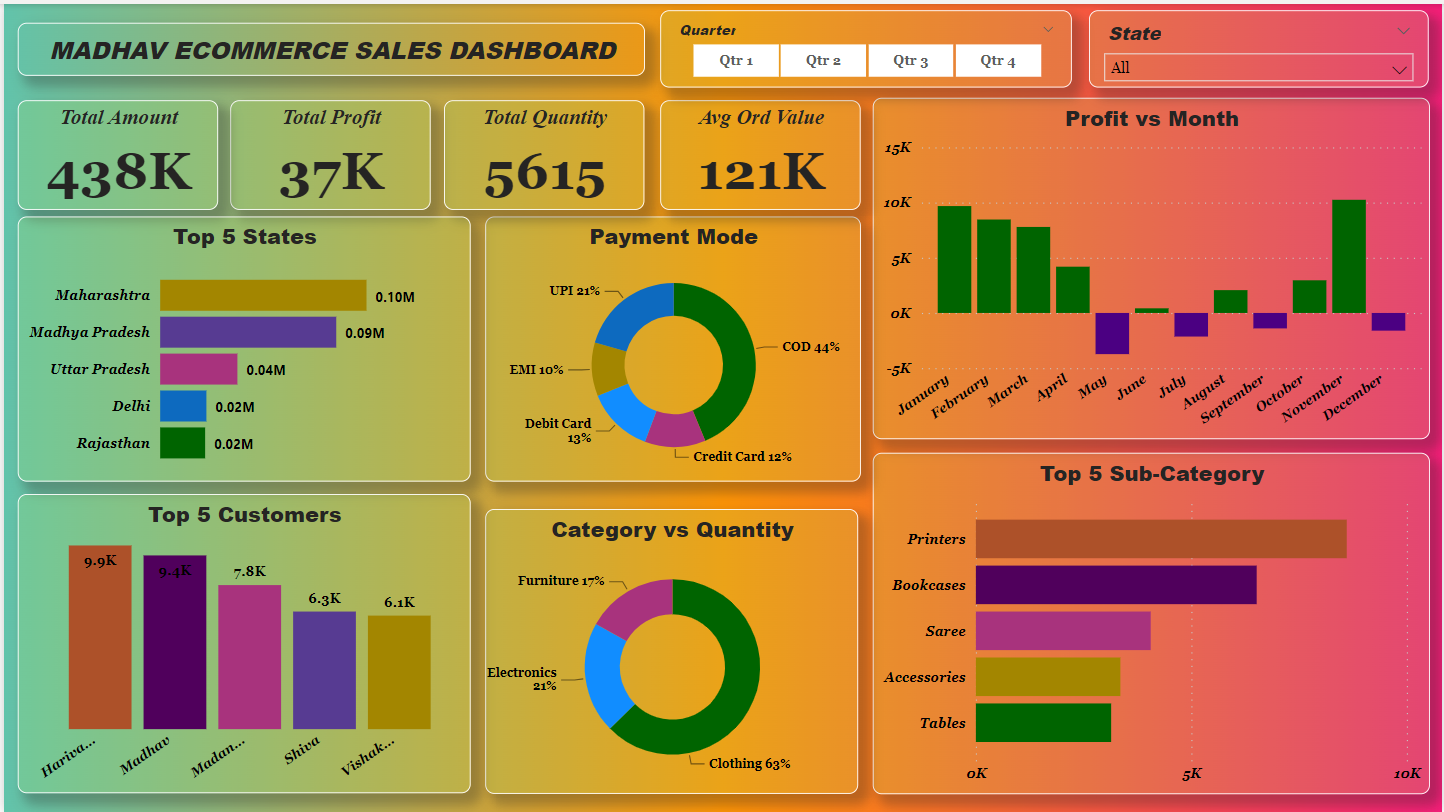

The dashboard page shown, as its layout file describes it:
{"tool":"powerbi","page":{"name":"Page 1","canvas":[1280,720],"ordinal":0},"visuals":[{"type":"textbox","box":[12.1,16.9,558.4,47],"z":0},{"type":"columnChart","title":"Profit vs Month","fields":{"Category":["Orders (1).Order Date.Variation.Date Hierarchy.Month"],"Y":["Details (2).Profit"]},"box":[773.1,83.2,495.7,303.9],"z":1000},{"type":"barChart","title":"Top 5 Sub-Category","fields":{"Category":["Details (2).Sub-Category"],"Y":["Details (2).Profit"]},"box":[773.1,399.2,495.7,303.9],"z":2000},{"type":"donutChart","title":"Category vs Quantity","fields":{"Y":["Details (2).Quantity"],"Series":["Details (2).Category"]},"box":[428.1,449.8,331.7,253.3],"z":3000},{"type":"donutChart","title":"Payment Mode","fields":{"Y":["Details (2).Quantity"],"Series":["Details (2).PaymentMode"]},"box":[428.1,189.3,334.1,236.4],"z":4000},{"type":"card","title":"Total Profit","fields":{"Values":["Details (2).Profit"]},"box":[201.4,85.6,178.5,97.7],"z":5000},{"type":"card","title":"Total Amount","fields":{"Values":["Details (2).Amount"]},"box":[12.1,85.6,178.5,97.7],"z":6000},{"type":"card","title":"Total Quantity","fields":{"Values":["Details (2).Quantity"]},"box":[392,85.6,178.5,97.7],"z":7000},{"type":"card","title":"Avg Ord Value","fields":{"Values":["Details (2).Avg_Order_Value"]},"box":[583.7,85.6,178.5,97.7],"z":8000},{"type":"barChart","title":"Top 5 States","fields":{"Category":["Orders (1).State"],"Y":["Details (2).Amount"]},"box":[12.1,189.3,402.8,236.4],"z":9000},{"type":"columnChart","title":"Top 5 Customers","fields":{"Category":["Orders (1).CustomerName"],"Y":["Details (2).Amount"]},"box":[12.1,436.6,402.8,266.5],"z":10000},{"type":"slicer","title":"Profit vs Month","fields":{"Values":["Orders (1).Order Date.Variation.Date Hierarchy.Quarter"]},"box":[583.7,6,366.6,68.7],"z":11000},{"type":"slicer","title":"Profit vs Month","fields":{"Values":["Orders (1).State"]},"box":[966,6,302.7,68.7],"z":12000}]}

Visuals, with their boxes in screenshot pixels (x1, y1, x2, y2), scaled from the page's 1280x720 canvas onto the 1444x812 screenshot:
textbox: detection(14, 19, 644, 72)
"Profit vs Month" columnChart: detection(872, 94, 1431, 437)
"Top 5 Sub-Category" barChart: detection(872, 450, 1431, 793)
"Category vs Quantity" donutChart: detection(483, 507, 857, 793)
"Payment Mode" donutChart: detection(483, 213, 860, 480)
"Total Profit" card: detection(227, 97, 429, 207)
"Total Amount" card: detection(14, 97, 215, 207)
"Total Quantity" card: detection(442, 97, 644, 207)
"Avg Ord Value" card: detection(658, 97, 860, 207)
"Top 5 States" barChart: detection(14, 213, 468, 480)
"Top 5 Customers" columnChart: detection(14, 492, 468, 793)
"Profit vs Month" slicer: detection(658, 7, 1072, 84)
"Profit vs Month" slicer: detection(1090, 7, 1431, 84)
